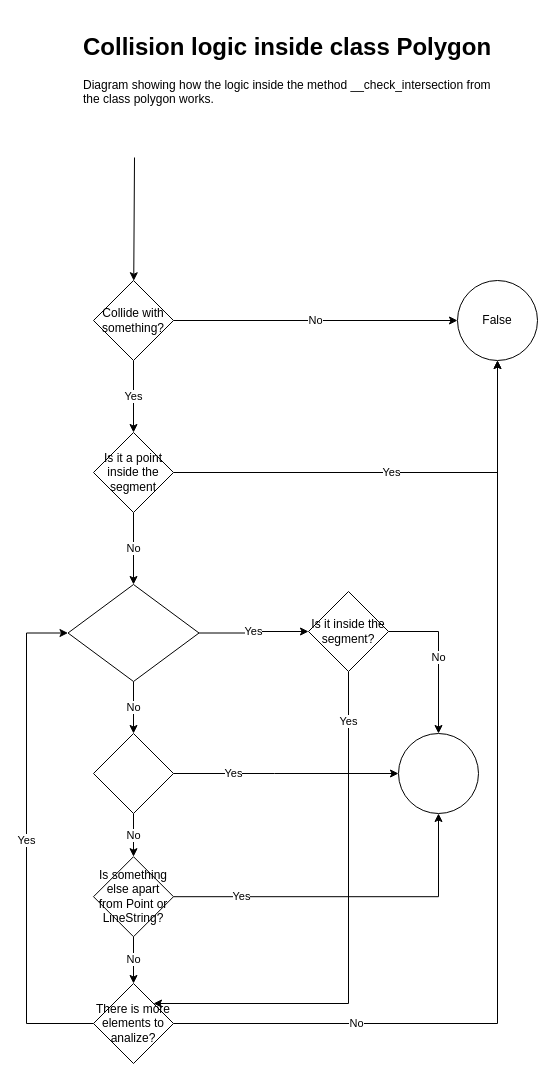
Some shapes in this 555 by 1081 pixel diagram are drawn without their labels. Here are the shapes that lost their labels. From the top down, the box of each, then its label:
(67, 584, 199, 682): Is the list element analized a point?
(92, 732, 174, 814): Is it a LineString?
(398, 732, 478, 814): True
